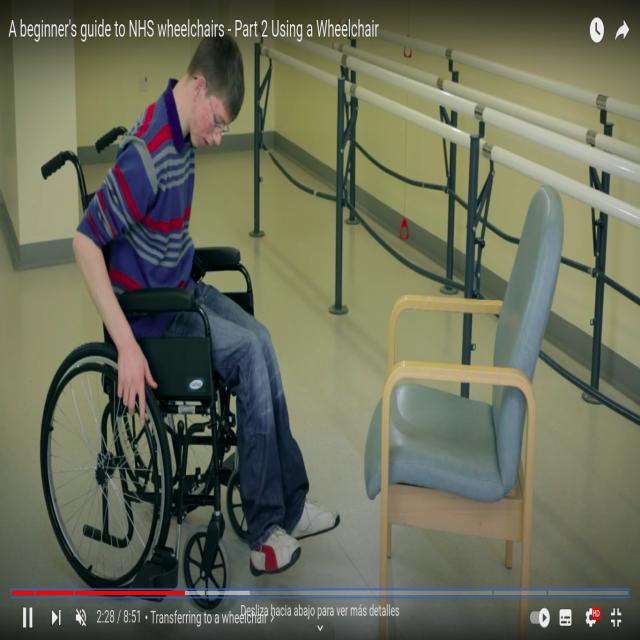wheelchairs: (41, 128, 292, 585)
